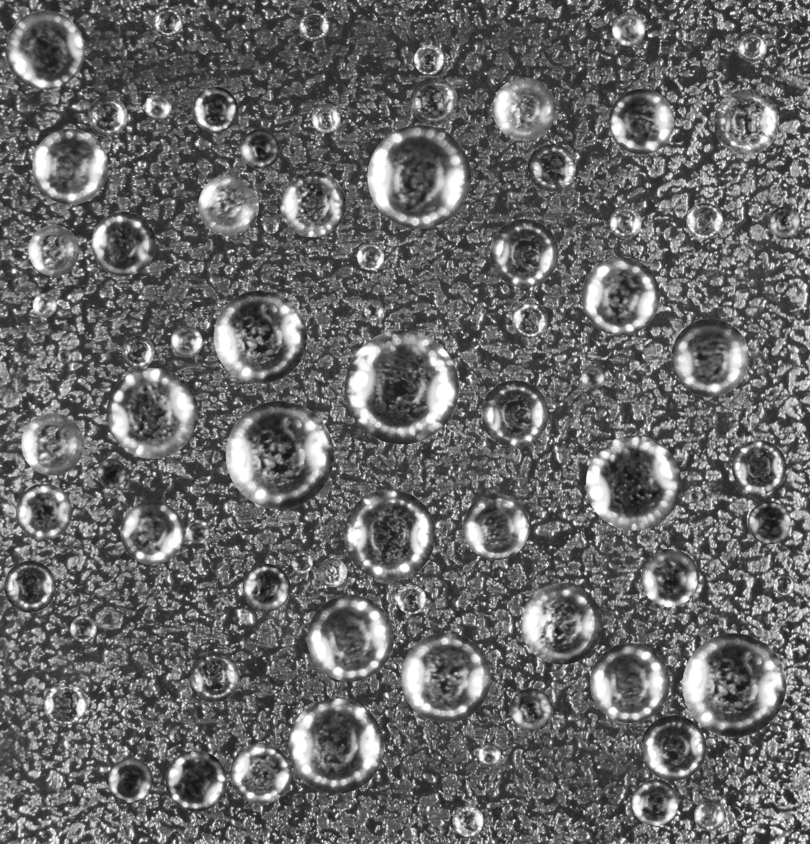Bubble: (344, 330, 458, 444), (225, 401, 333, 509), (682, 633, 786, 737), (367, 125, 471, 228), (586, 435, 681, 530), (288, 698, 383, 793), (213, 290, 306, 383), (344, 489, 435, 580), (106, 368, 197, 458), (401, 632, 490, 722), (307, 595, 393, 681), (520, 583, 602, 664), (590, 643, 669, 723), (5, 10, 84, 89), (671, 318, 749, 396), (581, 257, 659, 335), (32, 128, 108, 204), (490, 219, 558, 287), (481, 380, 548, 447), (463, 493, 529, 560), (640, 715, 706, 781), (608, 88, 674, 154), (280, 171, 345, 237), (714, 89, 779, 154), (91, 211, 155, 275), (120, 500, 184, 564), (492, 77, 555, 140), (21, 413, 83, 475), (165, 750, 226, 811), (230, 743, 291, 804), (198, 175, 258, 235), (641, 549, 699, 607), (15, 483, 72, 540), (732, 440, 786, 494), (4, 560, 55, 612), (188, 651, 239, 702), (28, 225, 79, 275), (242, 563, 290, 611), (527, 143, 575, 191), (410, 77, 457, 124), (632, 779, 678, 826), (192, 86, 238, 132), (108, 758, 153, 802), (43, 682, 86, 725), (748, 501, 791, 544), (509, 688, 552, 731), (87, 96, 127, 136), (240, 129, 279, 168), (686, 202, 723, 239), (512, 302, 548, 338), (612, 12, 645, 46), (121, 335, 154, 368), (768, 206, 801, 239), (609, 206, 641, 238), (170, 325, 202, 357), (694, 800, 725, 831), (452, 805, 483, 836), (737, 32, 767, 62), (299, 11, 329, 41), (153, 7, 183, 37), (414, 44, 444, 74), (397, 585, 426, 614), (318, 558, 347, 587), (96, 458, 125, 487), (311, 103, 340, 132), (144, 93, 171, 120), (357, 243, 384, 270), (70, 615, 96, 642), (32, 293, 56, 317), (185, 519, 209, 543), (581, 365, 604, 388), (477, 743, 500, 766), (291, 551, 313, 573), (773, 574, 795, 595), (364, 300, 383, 320), (263, 218, 278, 233), (57, 349, 71, 363), (688, 490, 701, 503), (450, 462, 461, 473), (675, 29, 686, 39)
